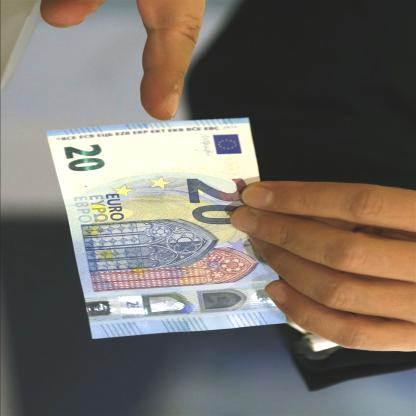euro_banknote: (54, 123, 281, 335)
